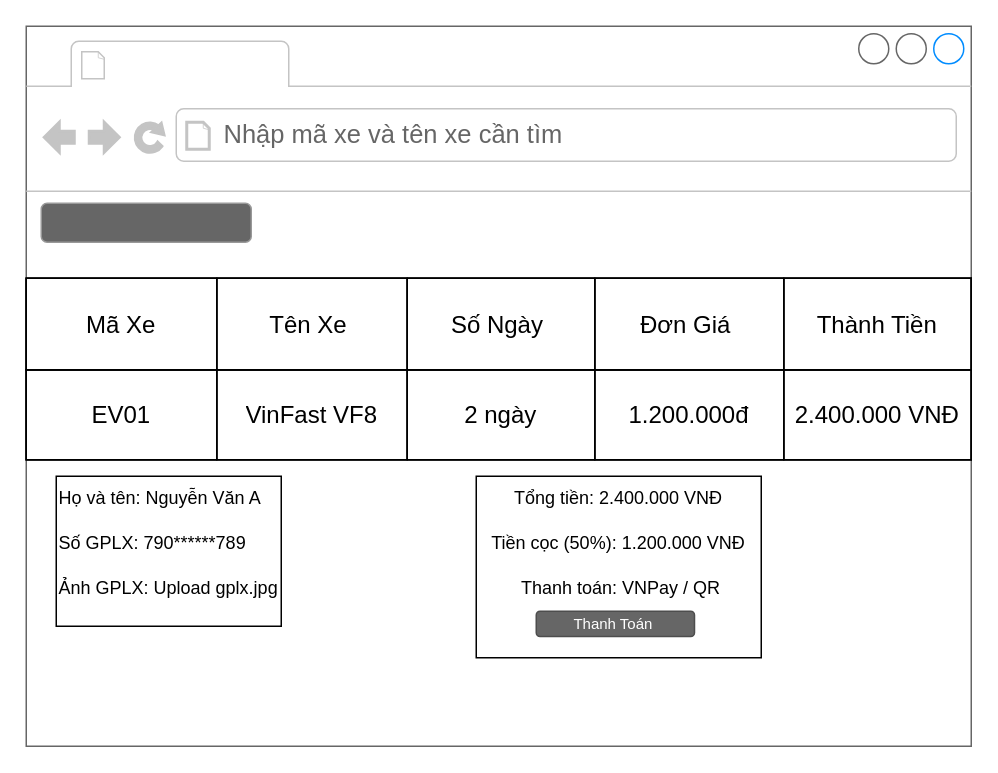
Image size: 998x773. Some labels were removed from this diagram. The shapes that lost their labels are listed below. From the top down, each one's centre as x and y in pixels, then its label:
At (198,63): "Page 1".
At (145,222): "Giỏ Xe".
